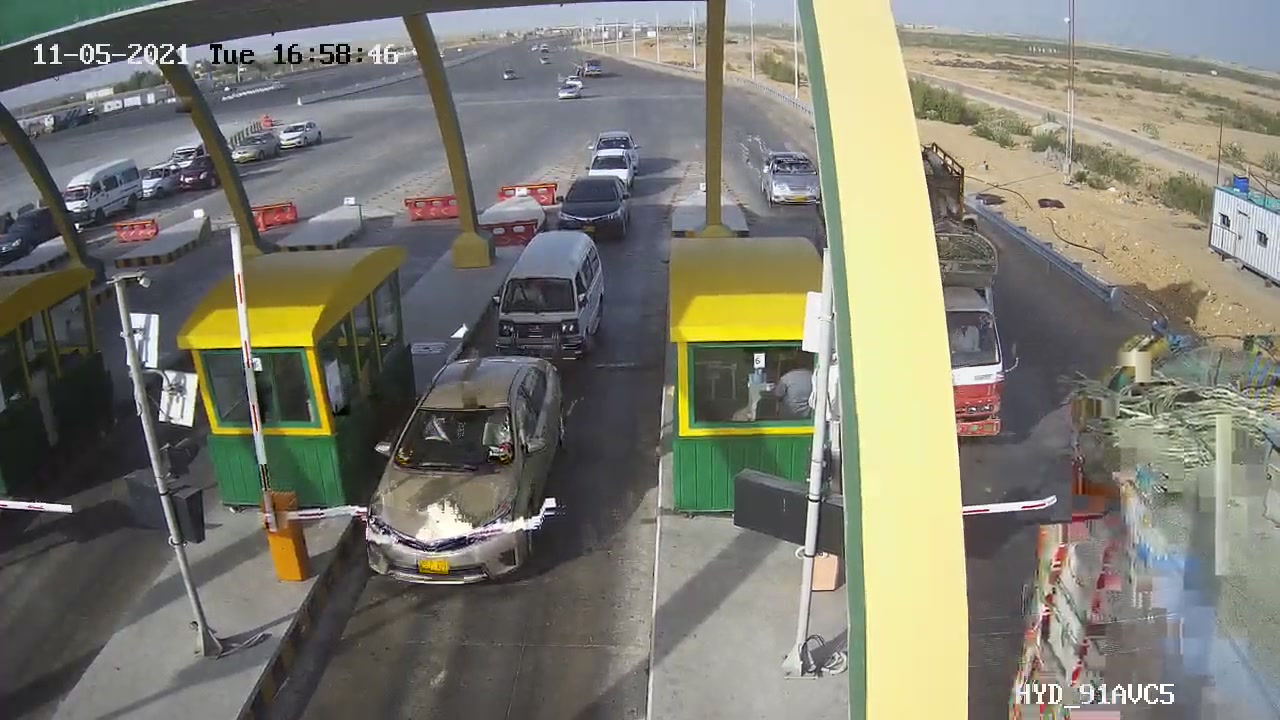F1: (332, 333, 579, 606), (478, 218, 623, 379), (542, 166, 644, 251)
